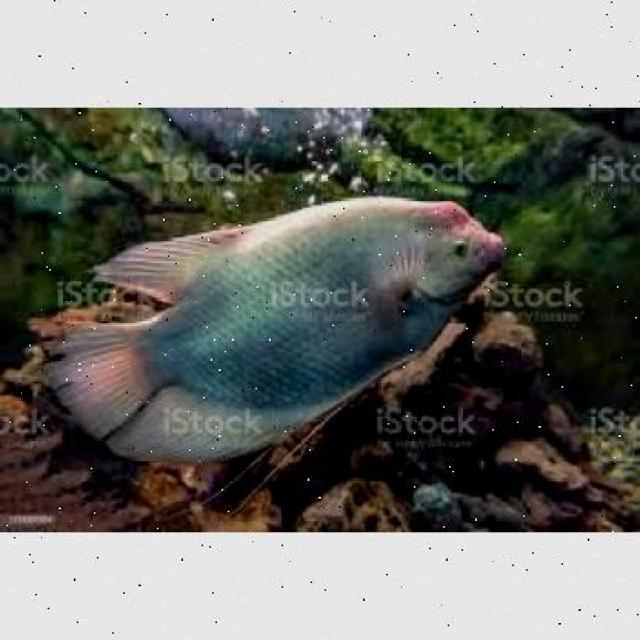gurame: (51, 196, 508, 462)
